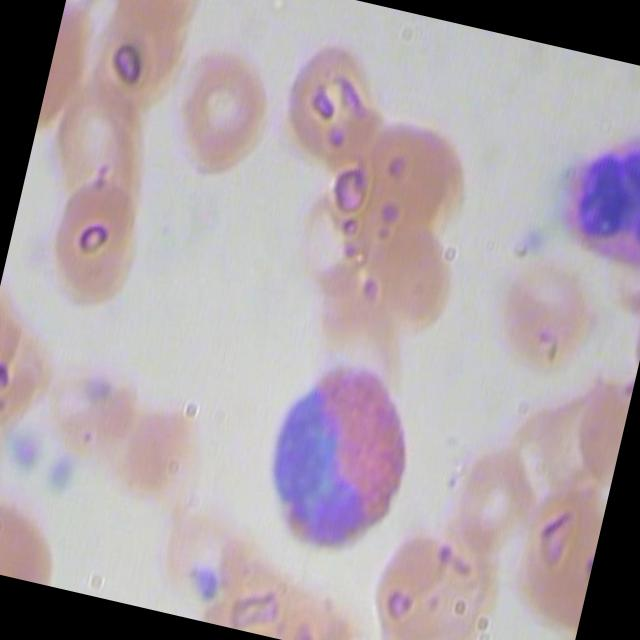Platelets: (40, 444, 86, 499), (78, 361, 123, 416), (186, 556, 231, 610), (4, 420, 48, 475), (512, 209, 556, 258)
RBC: (348, 85, 486, 248), (358, 205, 496, 368), (33, 60, 170, 224), (153, 33, 290, 196), (478, 228, 614, 392), (268, 17, 404, 180), (28, 160, 164, 323), (359, 514, 527, 640), (67, 0, 204, 143), (497, 481, 607, 640), (112, 385, 232, 527), (441, 419, 552, 561), (0, 478, 78, 586)
WBC: (246, 335, 437, 569), (541, 104, 640, 279)
